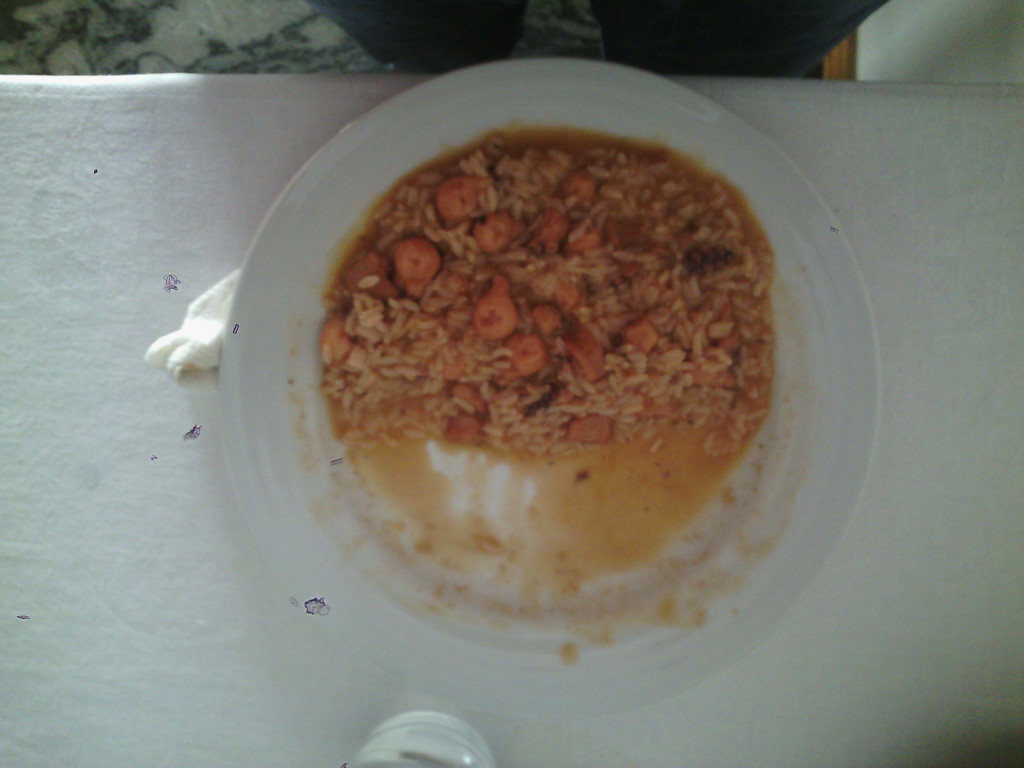61-80: (225, 61, 880, 716)
